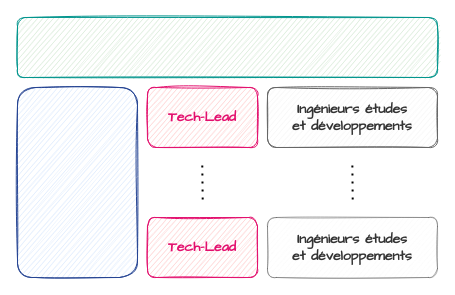
Some shapes in this 455 by 295 pixel diagram are drawn without their labels. Here are the shapes that lost their labels. From the top down, the centre of each, then its label:
(227,47): Responsable Développements
(77,182): Chef de projet
